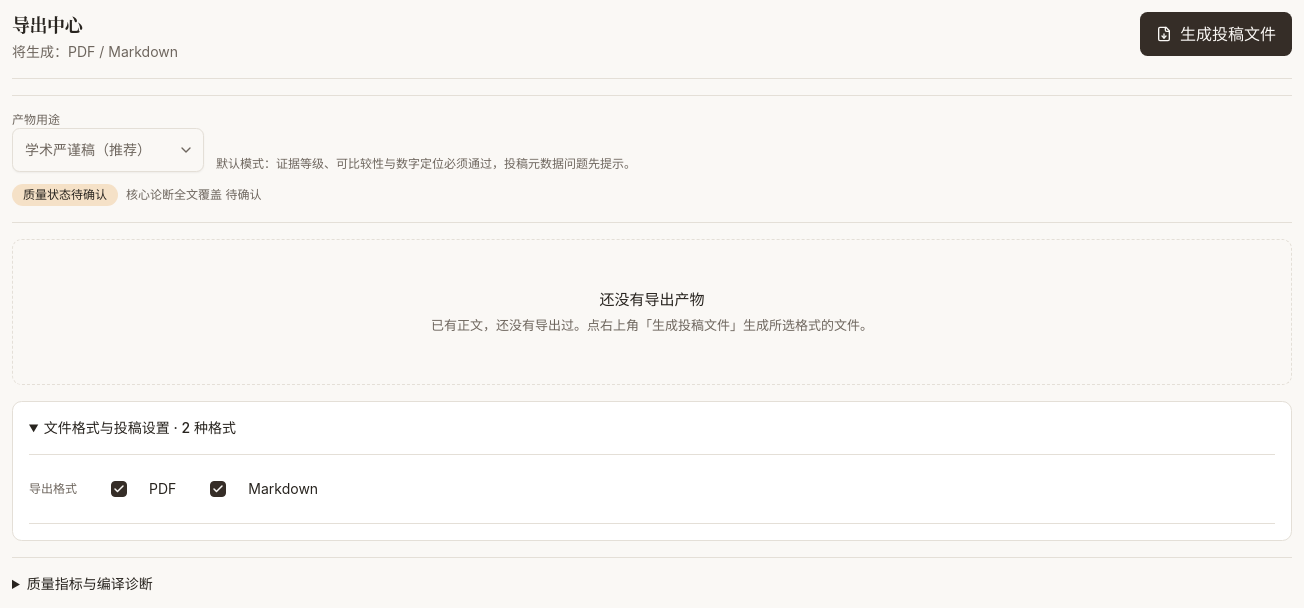
Test: 导出流程 › 启动中防止重复导出，失败后允许再次尝试
Step 1. Click the button "生成投稿文件" → coordinates (1216, 34), box [1140,12,1292,56]
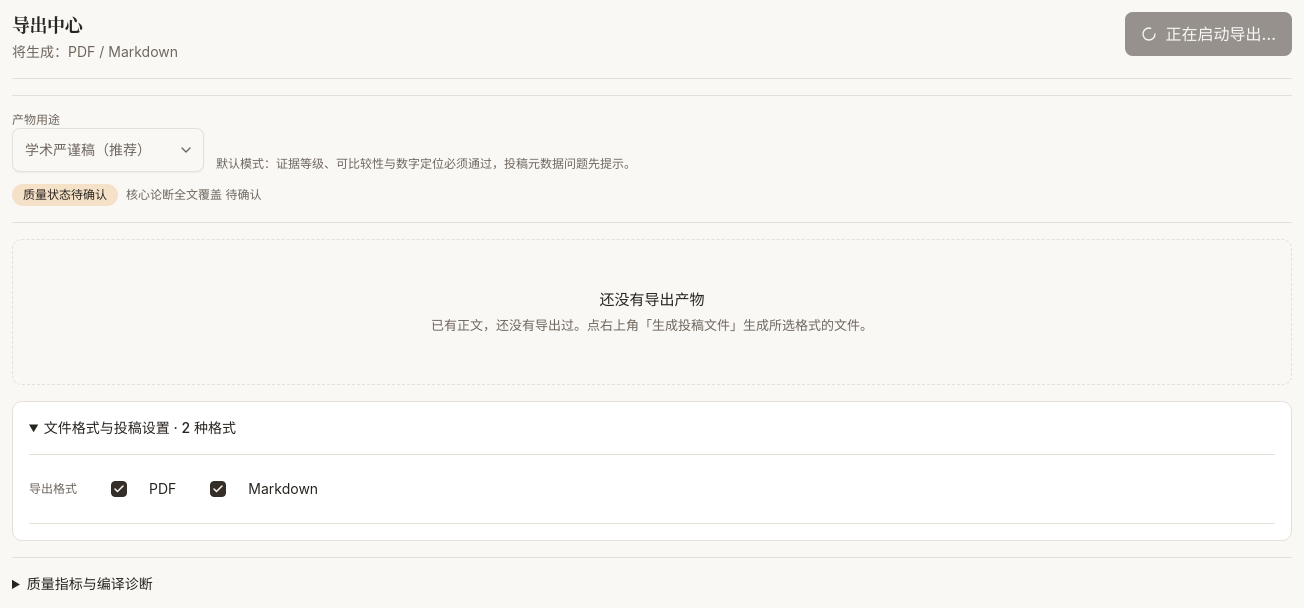
Result: the button "正在启动导出…" is disabled
Step 2. Click the button "正在启动导出…" → coordinates (1209, 34), box [1125,12,1292,56]
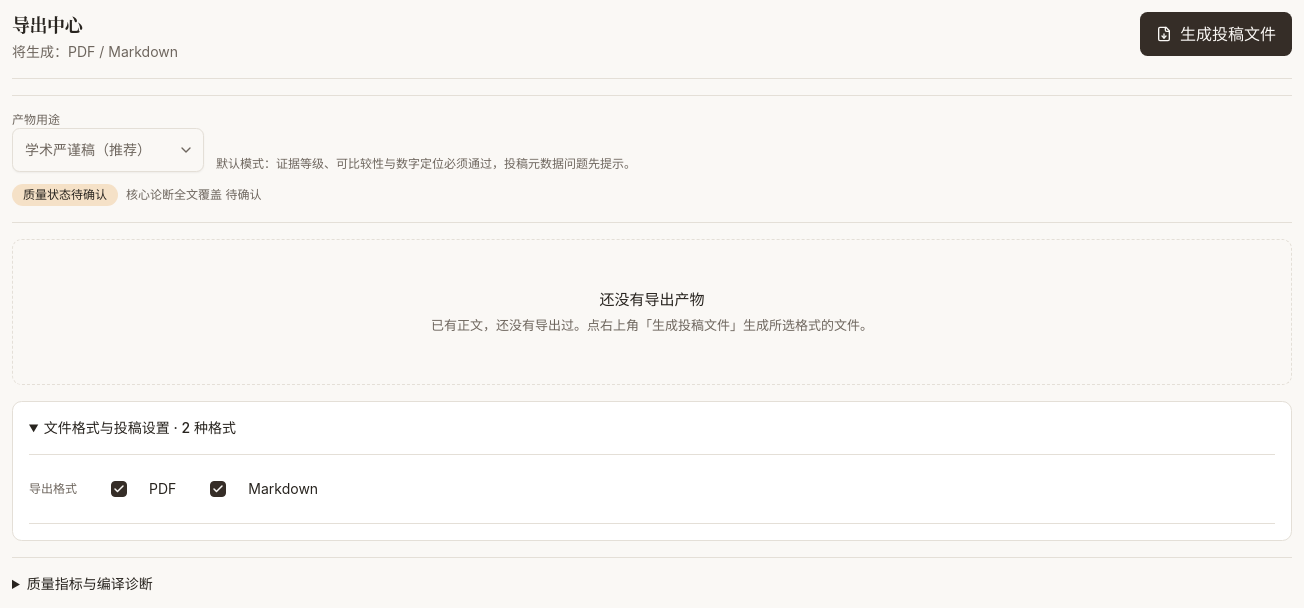
Result: the button "生成投稿文件" is enabled at [1140,12,1292,56]
